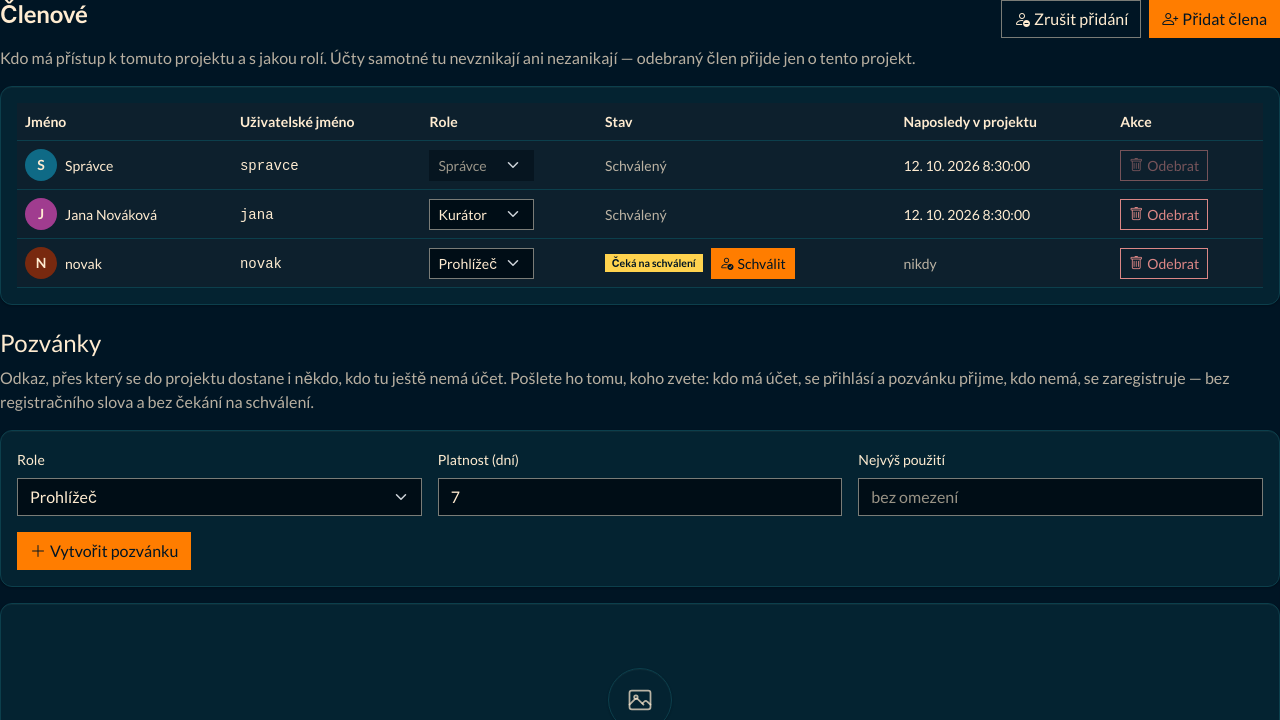
Test: MembersPage › removes a member behind a confirmation that keeps the account
Check: the text "jana" is shown, box [240, 206, 274, 222]
Click the button "Odebrat" in the row of "Jana Nováková" at x=1164, y=214, box [1120, 198, 1208, 230]
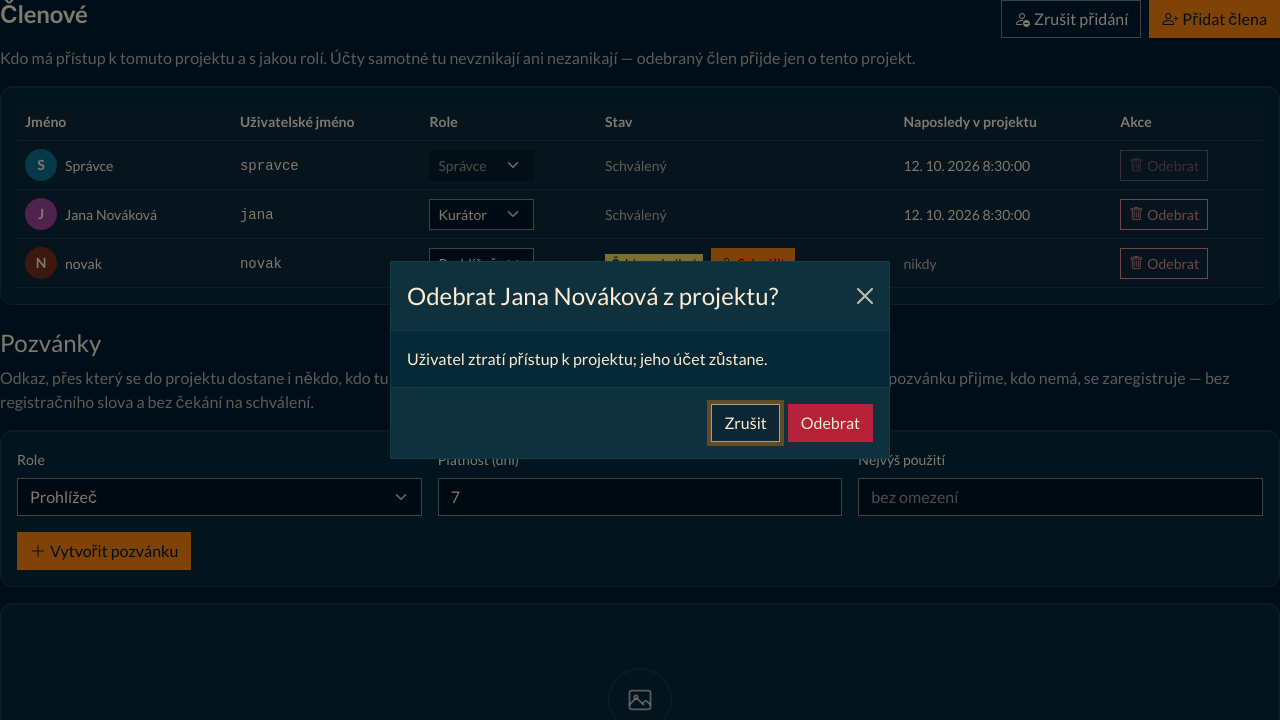
Check: the text "Uživatel ztratí přístup k projektu; jeho účet zůstane." is shown, box [407, 349, 767, 368]
Click the button "Odebrat" at x=830, y=423, box [788, 404, 873, 442]
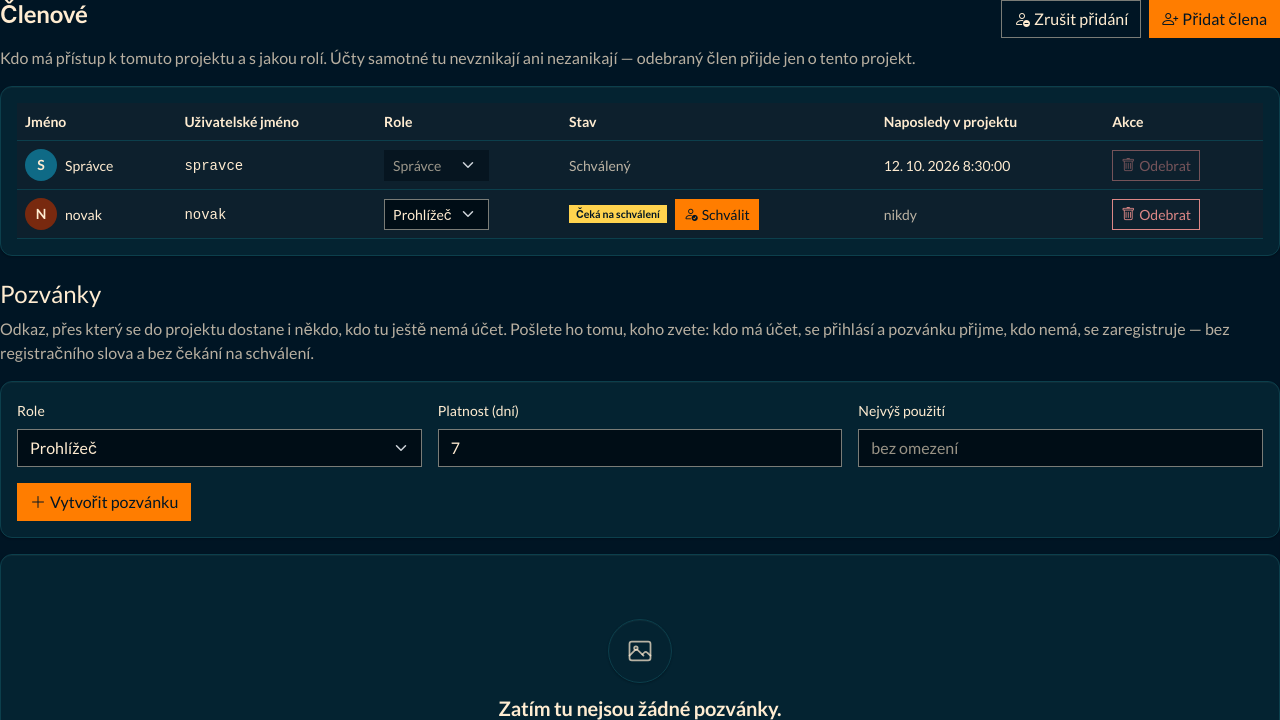
Check: the text "Jana" is gone
